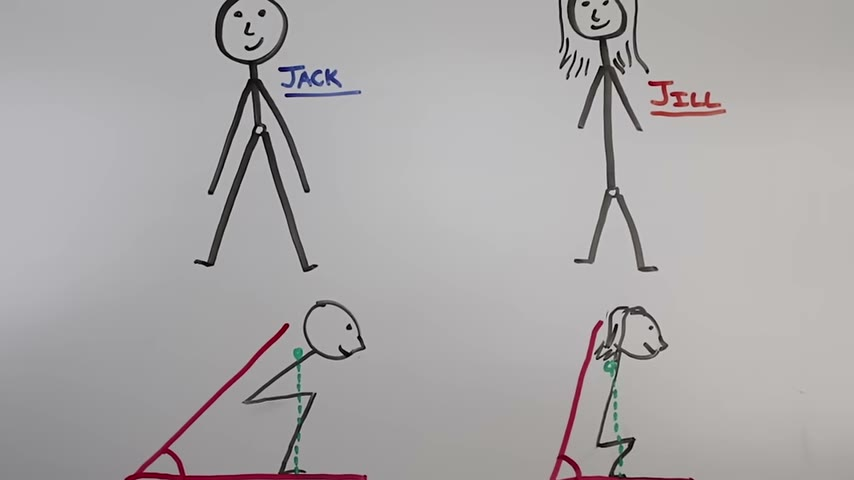barbell_plate_side: (291, 296, 366, 473), (214, 0, 239, 65)
